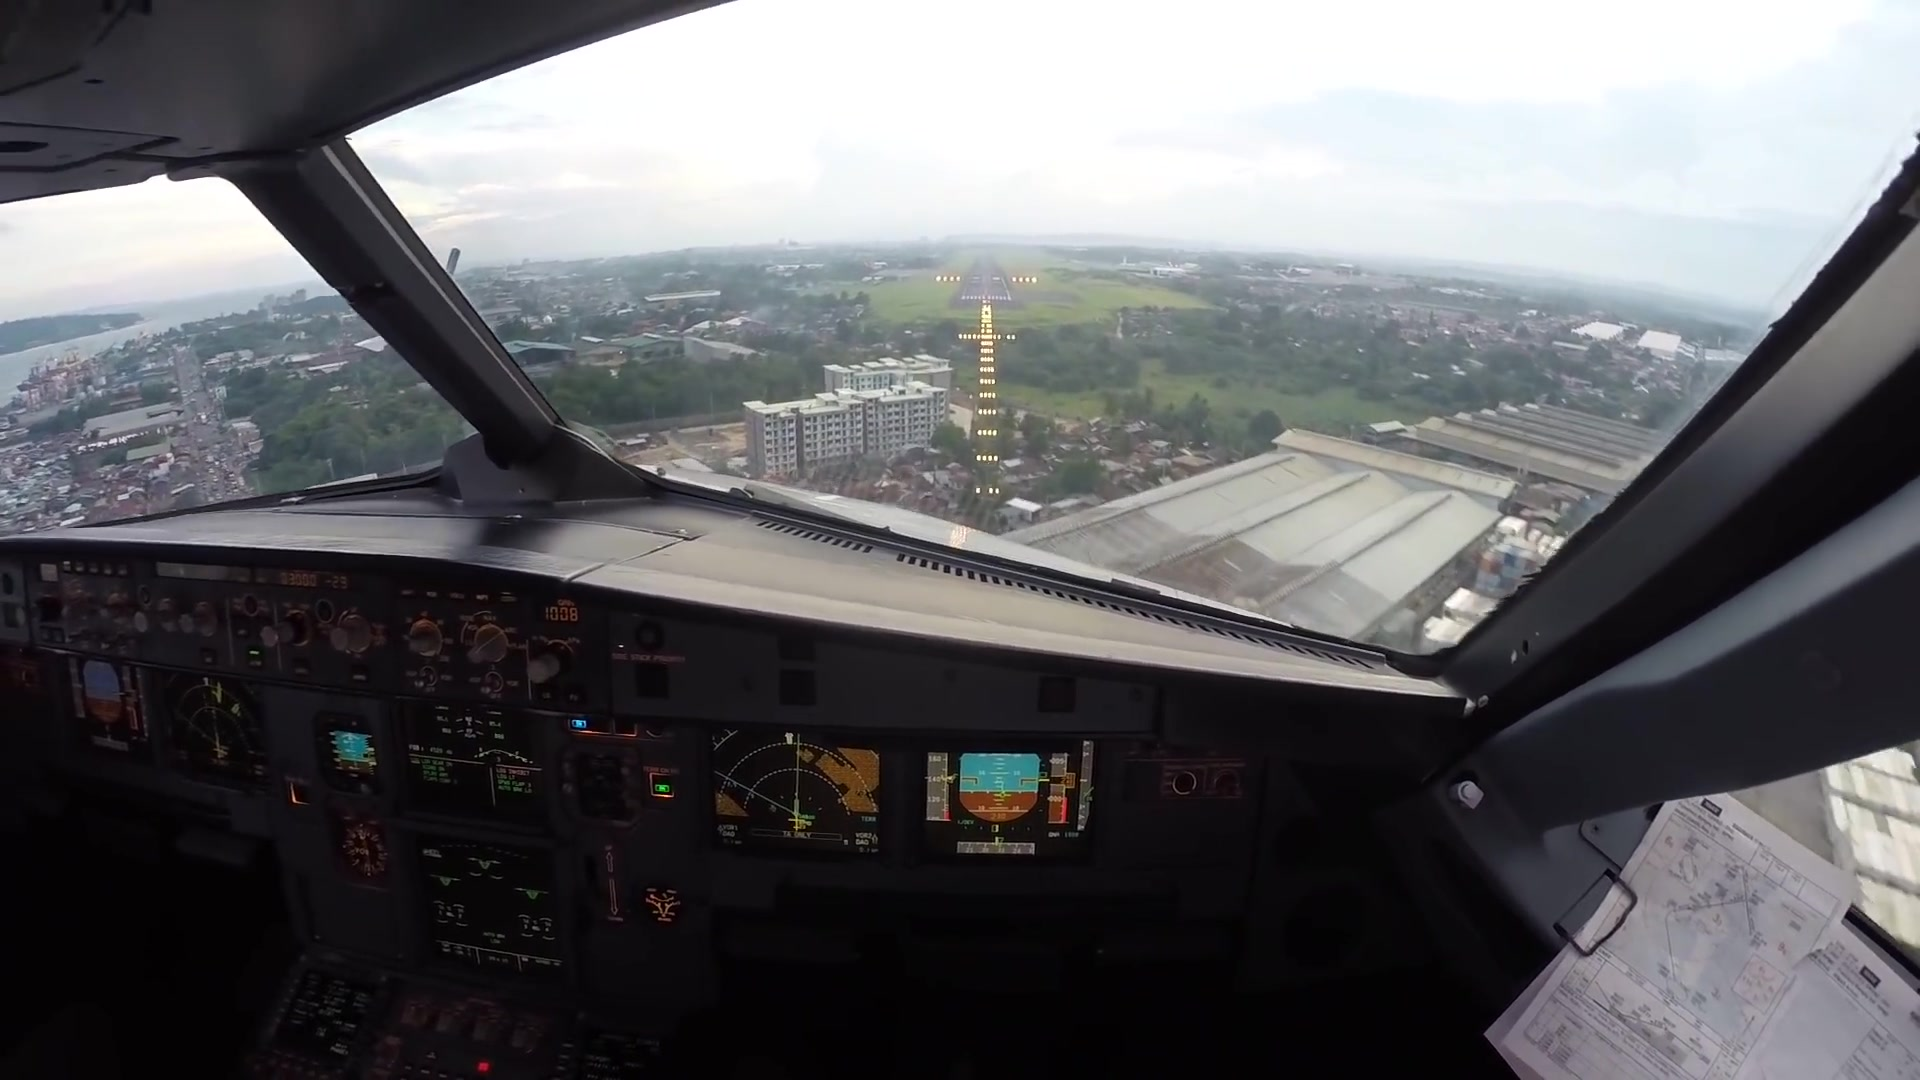entrance: (963, 293, 1010, 302)
runway: (956, 249, 1017, 305)
